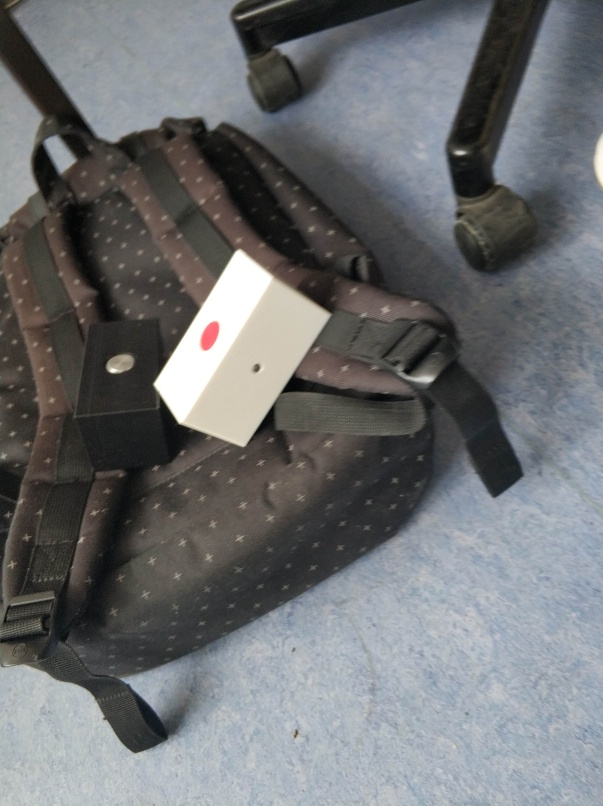black+black+silver: (74, 317, 169, 474)
white+white+red: (150, 242, 332, 450)
